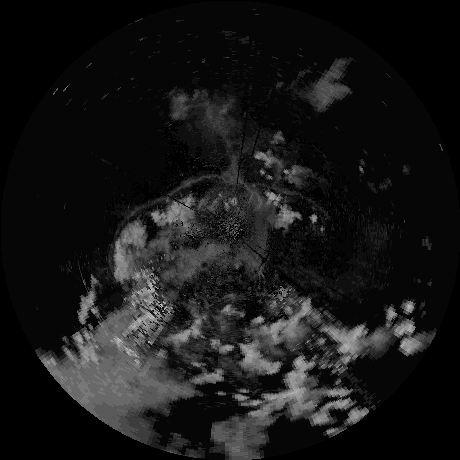frontgust: (254, 183, 324, 209), (115, 199, 162, 237), (168, 173, 227, 195)
